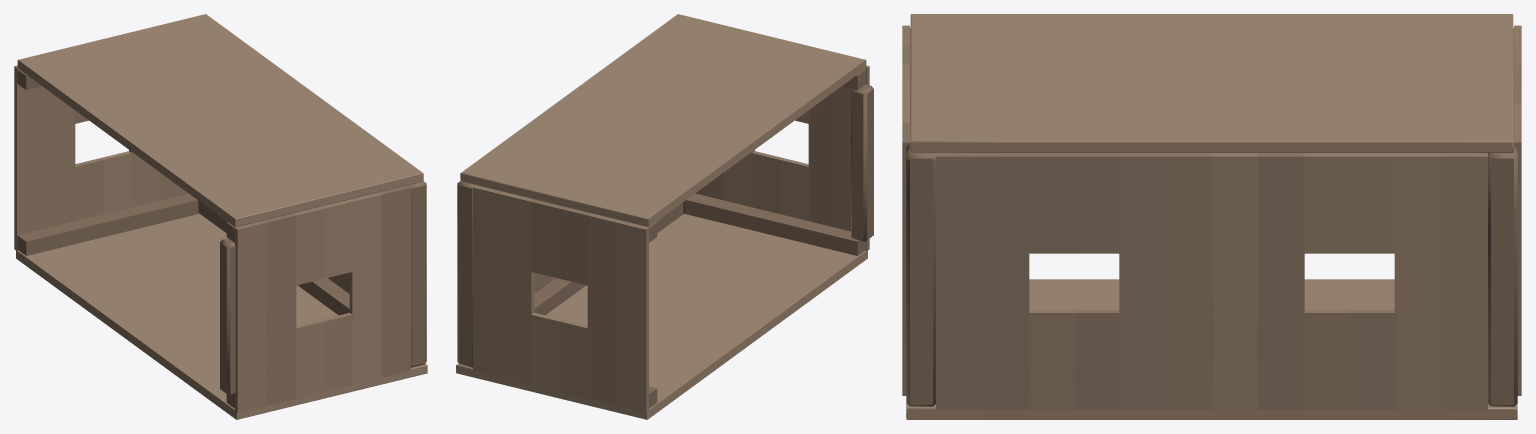
The model's file is Kit_RealTower_CrWdA.fbx.
The picture shows the model from 3 angles, left to right: view 1: azimuth 30°, elevation 25°; view 2: azimuth 150°, elevation 25°; view 3: azimuth 270°, elevation 25°; orthographic projection. The views are drawn at different scales.
Visible parts, largest first — view 1: Kit_RealTower_CrWdA_LOD0; view 2: Kit_RealTower_CrWdA_LOD0; view 3: Kit_RealTower_CrWdA_LOD0.
Part boxes in pixels (<box>): Kit_RealTower_CrWdA_LOD0: <box>14,14,427,419</box>; Kit_RealTower_CrWdA_LOD0: <box>456,14,873,419</box>; Kit_RealTower_CrWdA_LOD0: <box>902,14,1521,419</box>.
Size of what is drawn, in the model's own units: 1.48 by 1.4 by 2.84.
